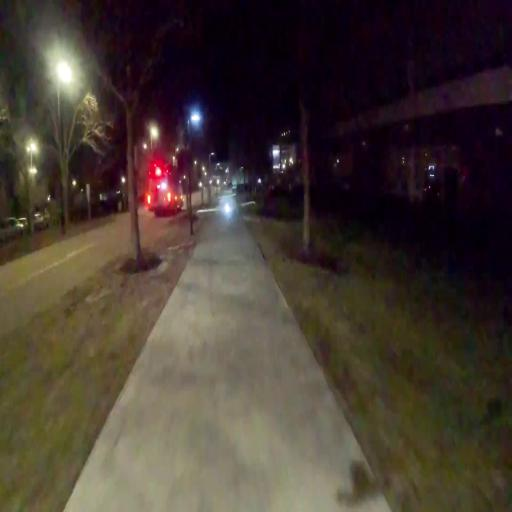uav: (198, 198, 256, 220)
